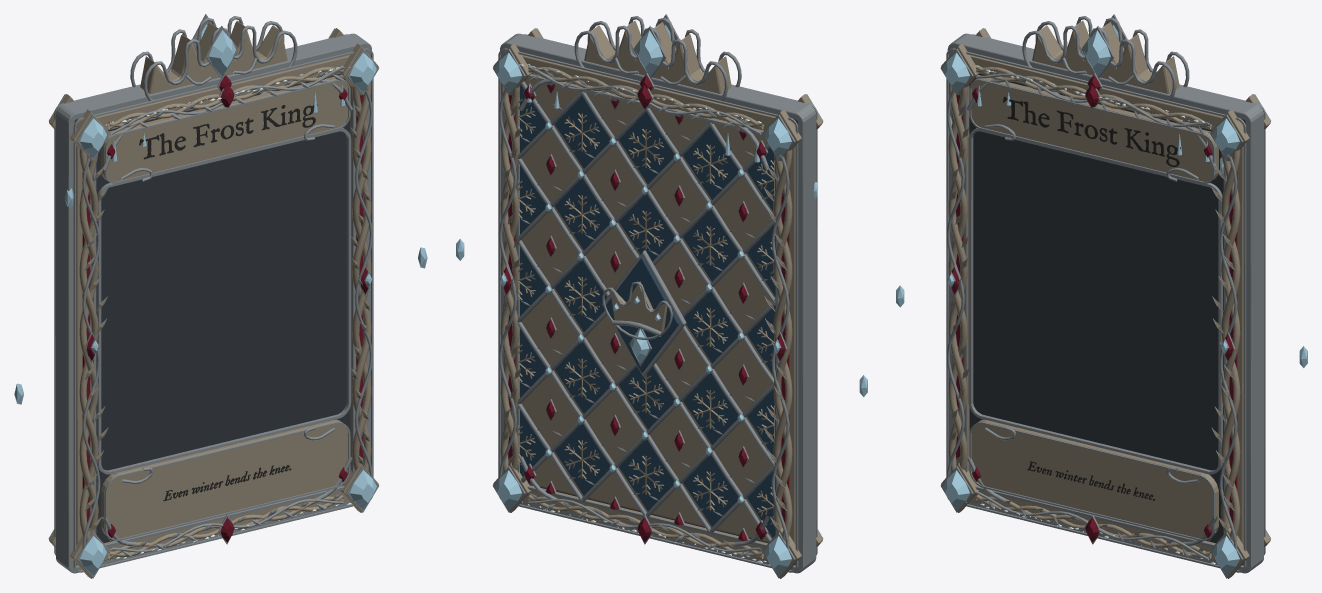
File: winter-crown.glb
3 views of the same model, side by side, from view 1: azimuth 30°, elevation 25°; view 2: azimuth 150°, elevation 25°; view 3: azimuth 330°, elevation 25° (orthographic).
Parts seen in each view (by area): view 1: Oxidized recess casting, Carved ivory casting, Winter silver casting, Rock crystal casting, Burgundy enamel casting, Cut lettering casting; view 2: Carved ivory casting, Winter silver casting, Glacial enamel casting, Rock crystal casting, Burgundy enamel casting; view 3: Oxidized recess casting, Carved ivory casting, Winter silver casting, Rock crystal casting, Burgundy enamel casting, Cut lettering casting.
Boxes of the visible parts, x1,y1,x2,y2 form: Oxidized recess casting: [74, 73, 350, 565]; Carved ivory casting: [49, 20, 378, 578]; Winter silver casting: [48, 14, 379, 578]; Rock crystal casting: [80, 24, 376, 575]; Burgundy enamel casting: [82, 75, 368, 542]; Cut lettering casting: [139, 104, 317, 501]; Carved ivory casting: [493, 21, 822, 578]; Winter silver casting: [493, 14, 823, 578]; Glacial enamel casting: [520, 85, 775, 537]; Rock crystal casting: [495, 24, 791, 575]; Burgundy enamel casting: [503, 75, 789, 542]; Oxidized recess casting: [969, 73, 1245, 565]; Carved ivory casting: [941, 20, 1270, 578]; Winter silver casting: [940, 14, 1270, 578]; Rock crystal casting: [943, 24, 1239, 575]; Burgundy enamel casting: [951, 75, 1237, 542]; Cut lettering casting: [1003, 96, 1180, 500].
Size of the model in its own units: 4.33 by 5.2 by 0.7648.
